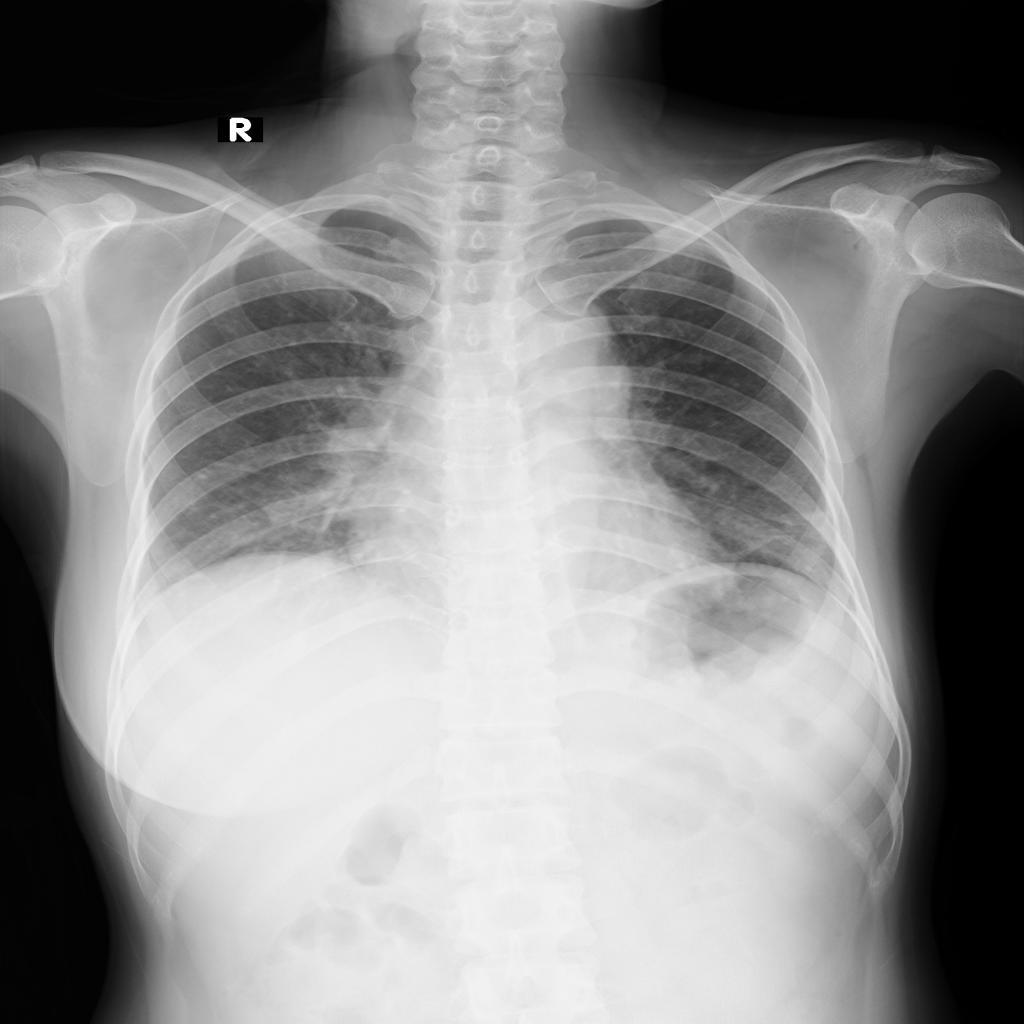Nodule: (196, 473, 208, 482)
